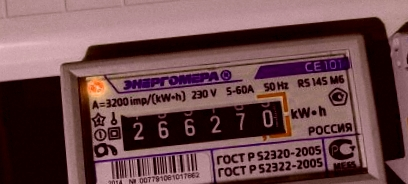0: (259, 106, 274, 128)
2: (129, 119, 146, 141), (207, 112, 223, 133)
6: (155, 117, 170, 139), (182, 116, 197, 137)
7: (233, 110, 246, 130)
screen: (110, 87, 298, 157)
